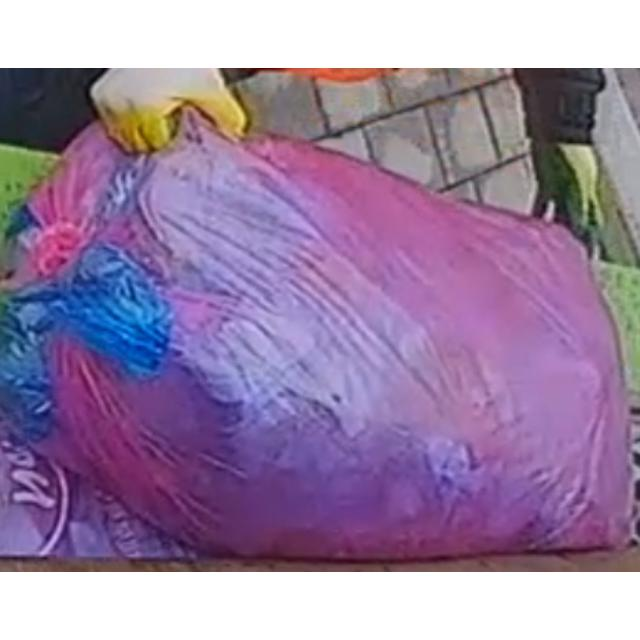other_trashbag: (0, 107, 626, 557)
